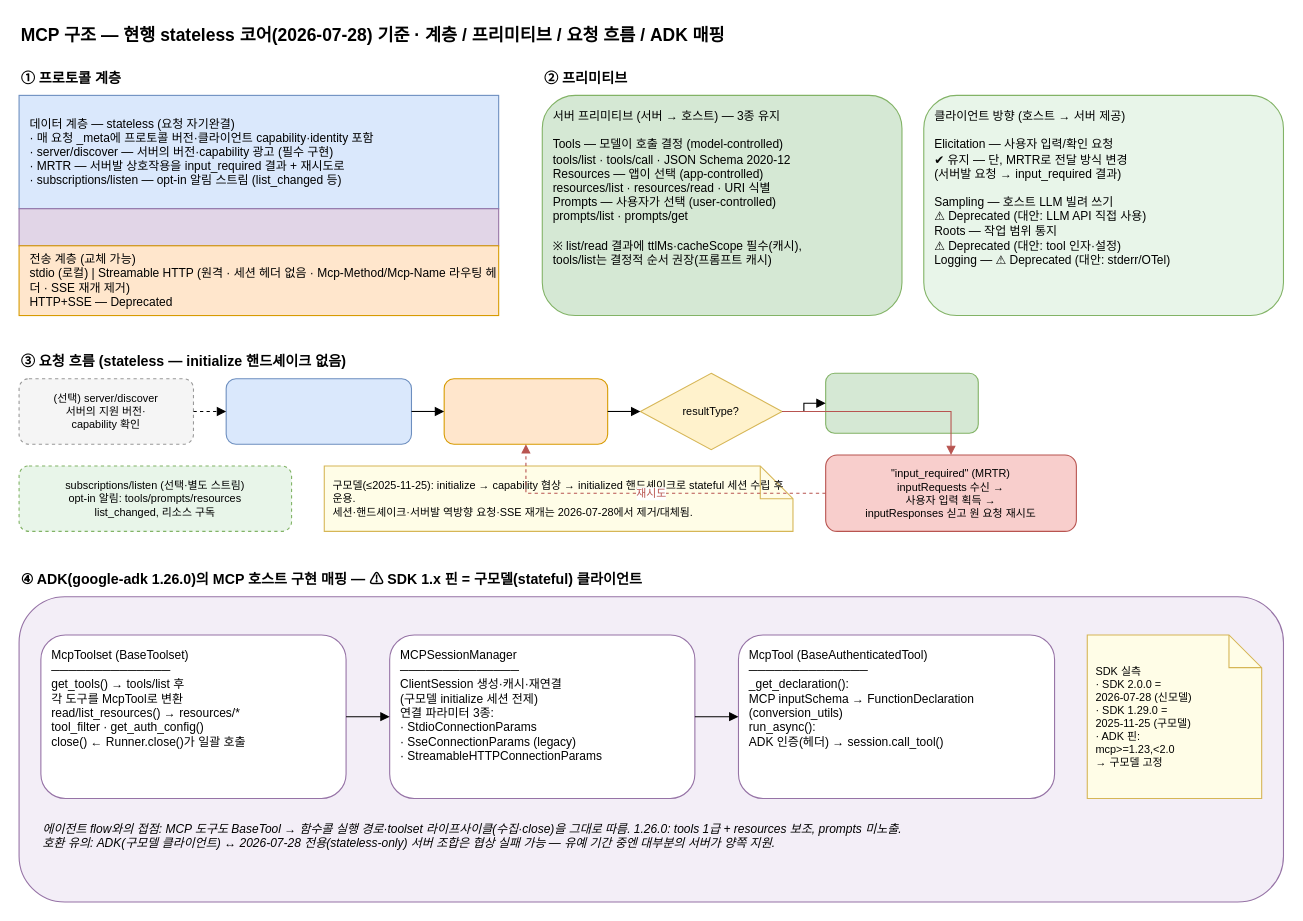
Some shapes in this 1303 by 921 pixel diagram are drawn without their labels. The shapes that lost their labels are listed below. From the top down, each one's box as (x1, y1, x2, y2) in pixels, then its label:
(18, 208, 499, 246): JSON-RPC 2.0 (요청 / 응답 / 알림)
(225, 378, 411, 444): tools/list (_meta: 버전·capability· identity 자체 포함)
(443, 378, 608, 444): tools/call (모델 함수콜 → 서버 실행)
(825, 372, 978, 433): "complete" → 결과 사용
